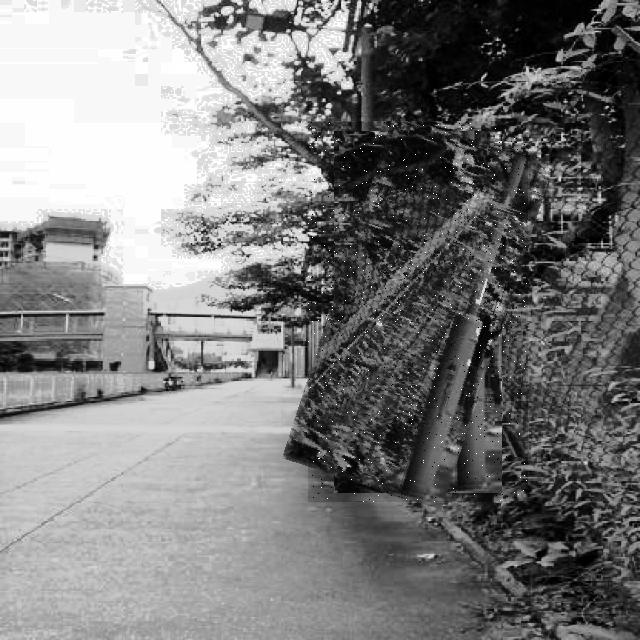anomaly-fence: (308, 122, 528, 502)
